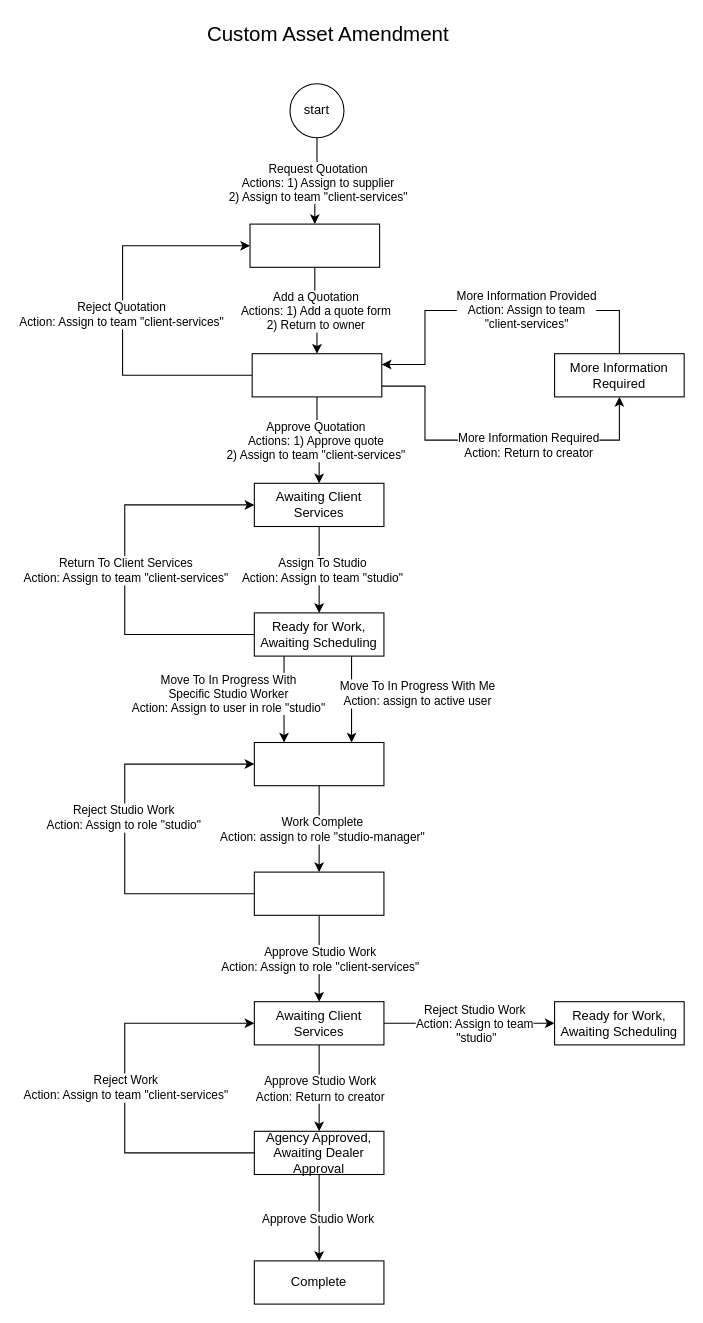
The diagram is 703 pixels wide and 1323 high, and some of its shapes have lost their labels. Here are the shapes that lost their labels. From the top down, the centre of each, then its label:
point 314,245: Awaiting Quote
point 316,375: Awaiting Quote Approval
point 318,763: In Progress With Studio Worker
point 318,893: In Progress With Studio Manager
